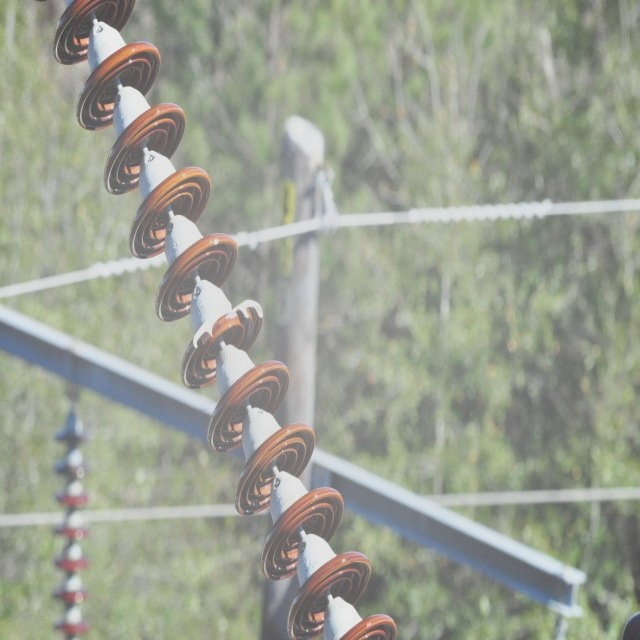broken: (192, 295, 264, 349)
insulator: (52, 0, 398, 637)
